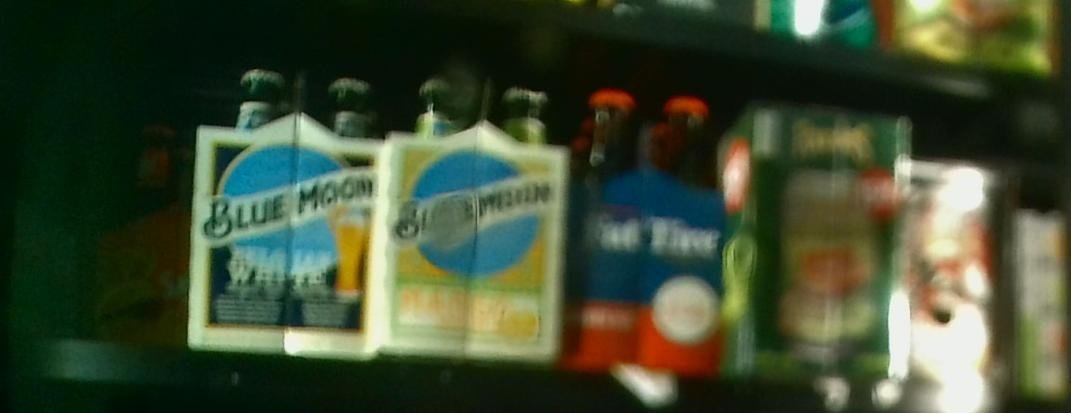bottle: (193, 71, 380, 358), (733, 81, 907, 380), (386, 67, 559, 355), (569, 74, 725, 367)
